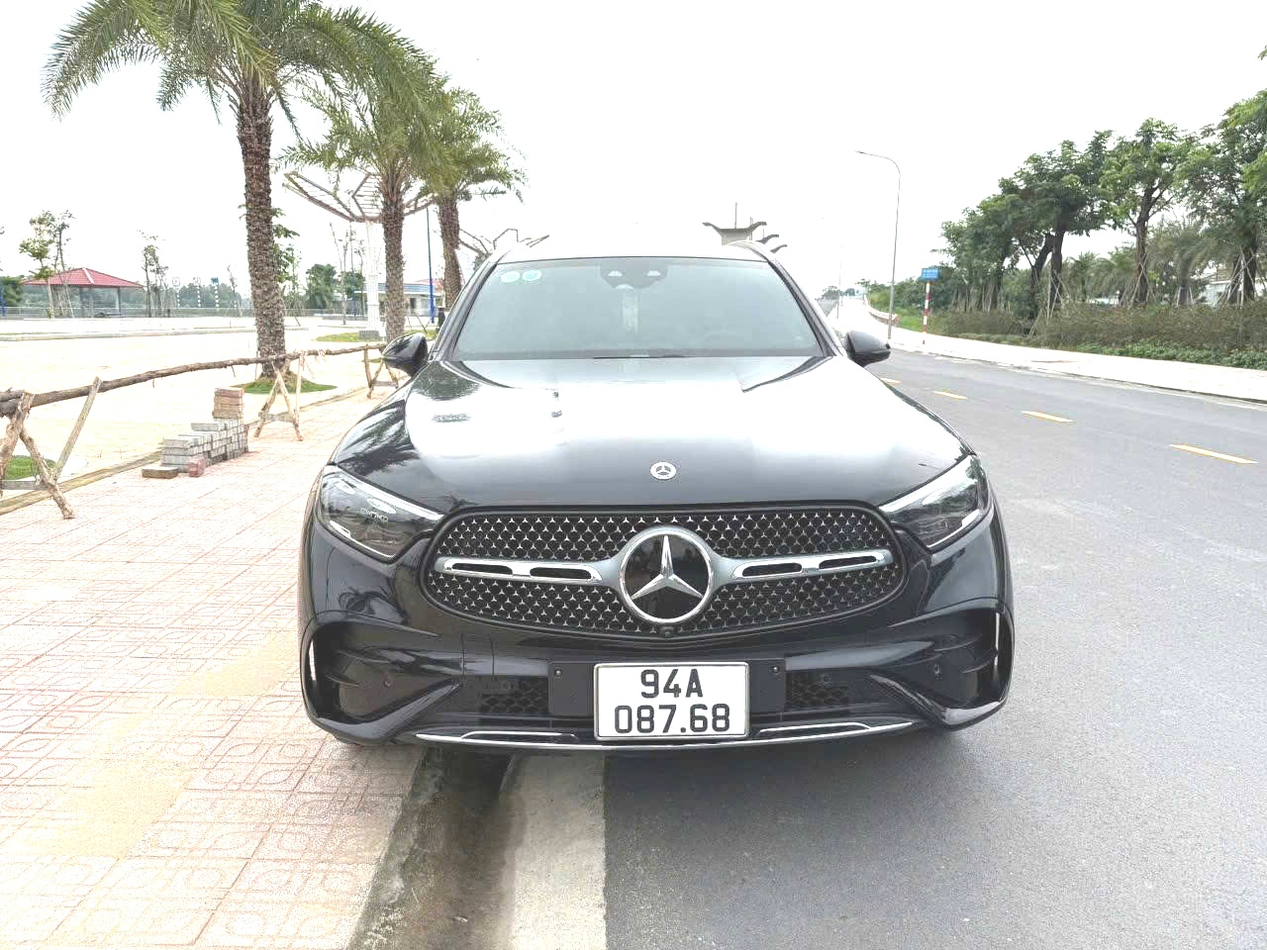Bien-so: (620, 631, 783, 729)
